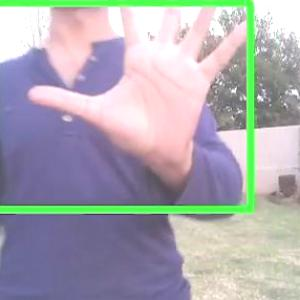follow_hand: (24, 0, 262, 188)
